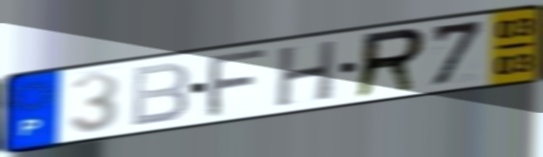3: (65, 68, 123, 137)
7: (428, 18, 487, 89)
B: (128, 60, 193, 129)
F: (203, 45, 273, 120)
H: (273, 37, 340, 111)
R: (351, 25, 430, 102)
